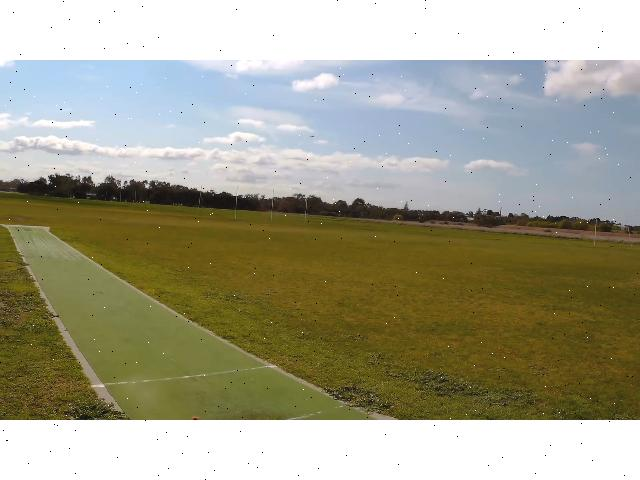Anti-Drone: (298, 130, 324, 143)
